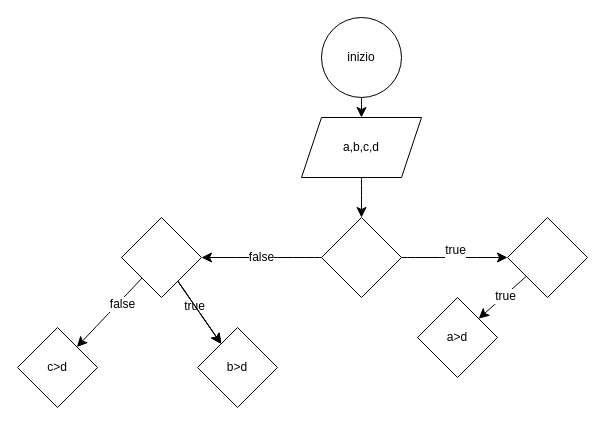
Image size: 605x425. Some labels were removed from this diagram. Each missing label, with the box of its shape:
a>b: (320, 216, 402, 298)
a>c: (506, 216, 588, 298)
b>c: (120, 216, 202, 298)
